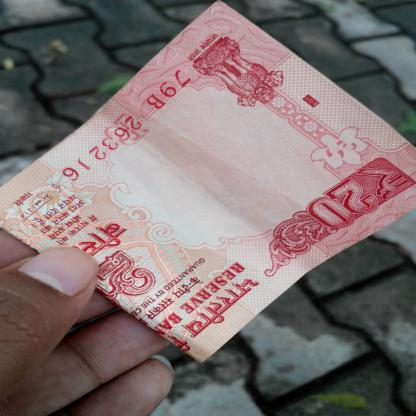Old20Front: (7, 40, 408, 336)
